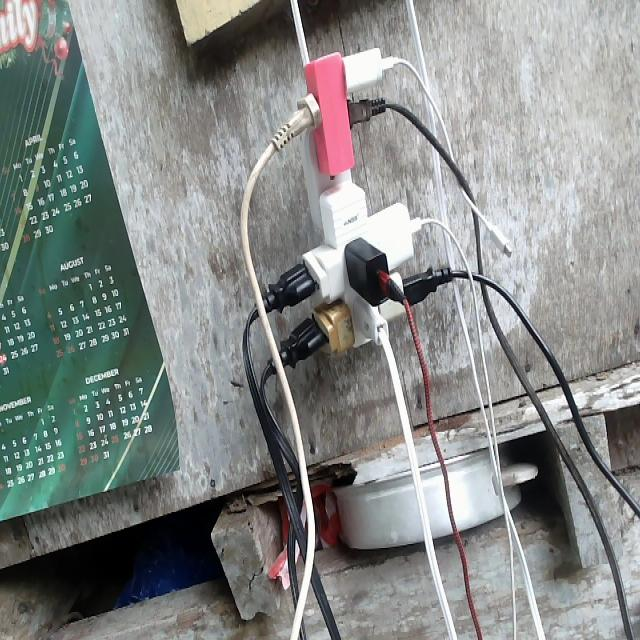-: (257, 49, 454, 373)
